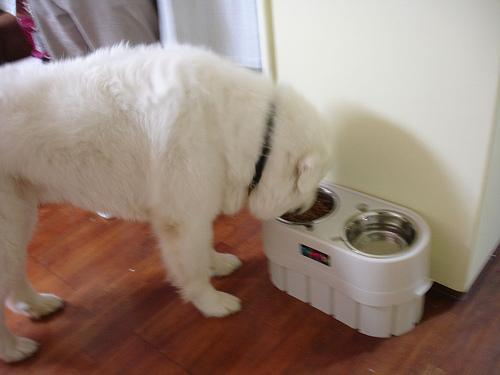Great_Pyrenees: (0, 43, 328, 363)
